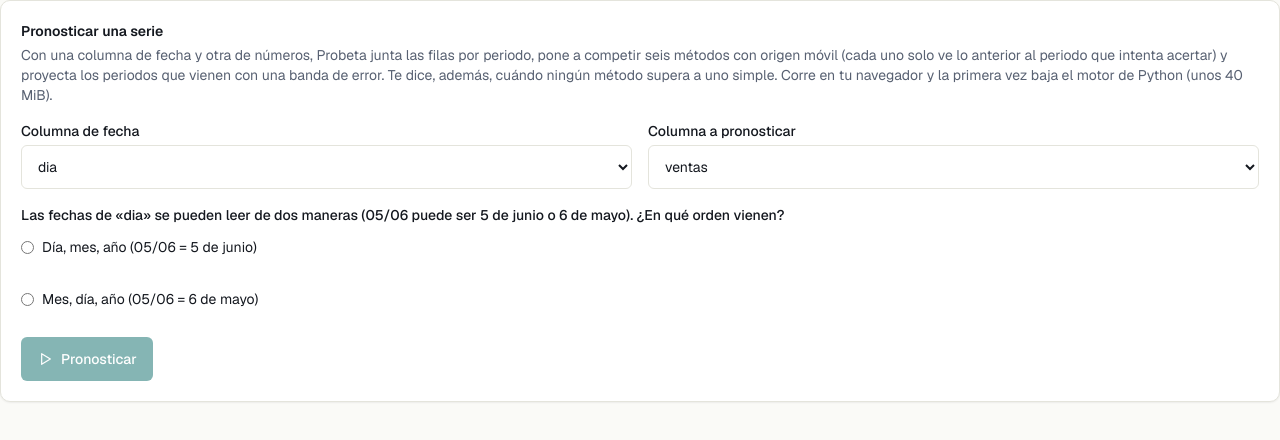
Scenario: las preguntas › una fecha ambigua (05/06/2026) pregunta el orden antes de armar la serie
This screenshot has width=1280, height=440.
Expected: the element with test id "pronostico-orden" shows "¿En qué orden vienen?", 21,206 -> 785,224
Expected: the button "Pronosticar" is disabled, 21,337 -> 153,381
Click the radio button labelled "Día, mes, año (05/06 = 5 de junio)". click: (28, 247)
box: 21,240 -> 34,254
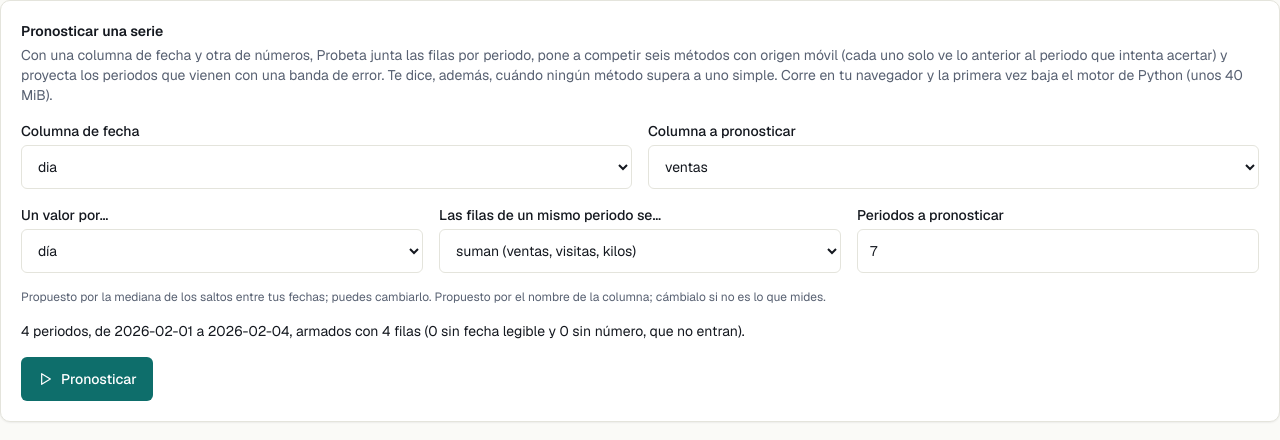
Now the element with test id "pronostico-serie" shows "4 periodos", box 21,322 -> 745,340
